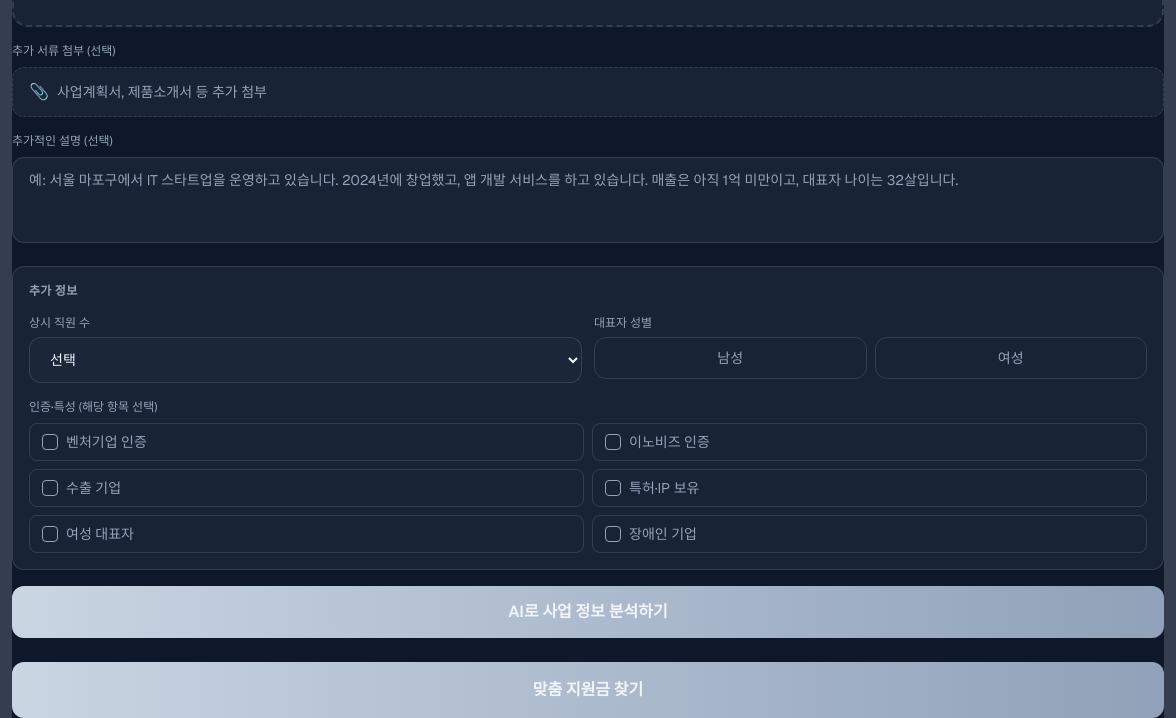
ConditionForm: 인증·특성 토글 › 인증 선택 시 분석 버튼 활성화 (canAnalyze)
(page scrolled)
Step 1. Click the button "벤처기업 인증" → (106, 442), box [29,423,584,461]
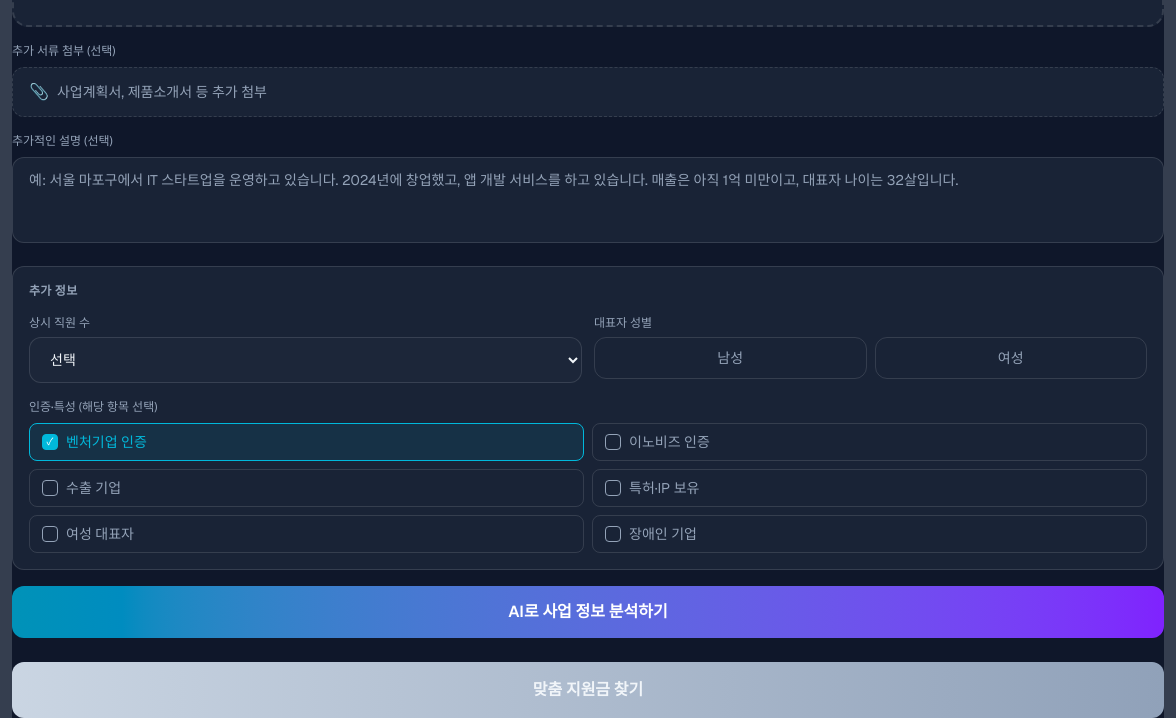
Now the button "AI로 사업 정보 분석하기" is enabled, box [12,586,1164,638]
